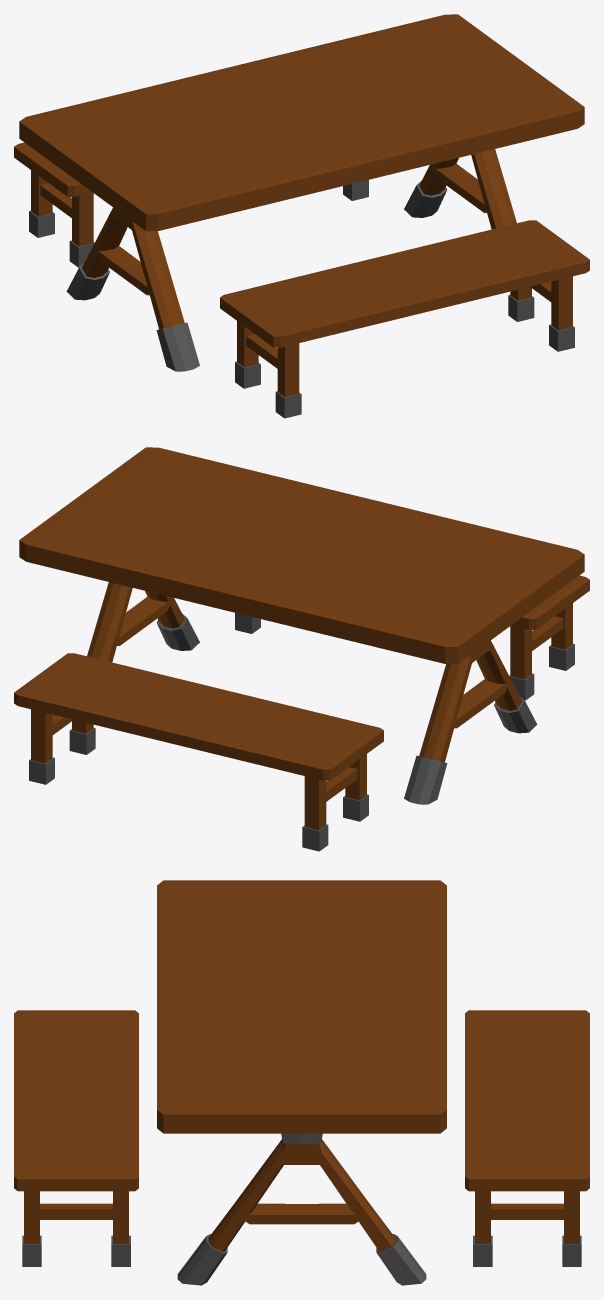
Rendered from DungeonTable.fbx.
The picture shows the model from 3 angles, top to bottom: view 1: azimuth 30°, elevation 25°; view 2: azimuth 150°, elevation 25°; view 3: azimuth 270°, elevation 25°; orthographic projection. The views are drawn at different scales.
Parts seen in each view (by area): view 1: Cube; view 2: Cube; view 3: Cube.
Boxes of the visible parts, <box> form: Cube: <box>14,14,589,418</box>; Cube: <box>14,447,589,851</box>; Cube: <box>14,880,589,1285</box>.
Size of the model in its own units: 183 by 70.03 by 190.
